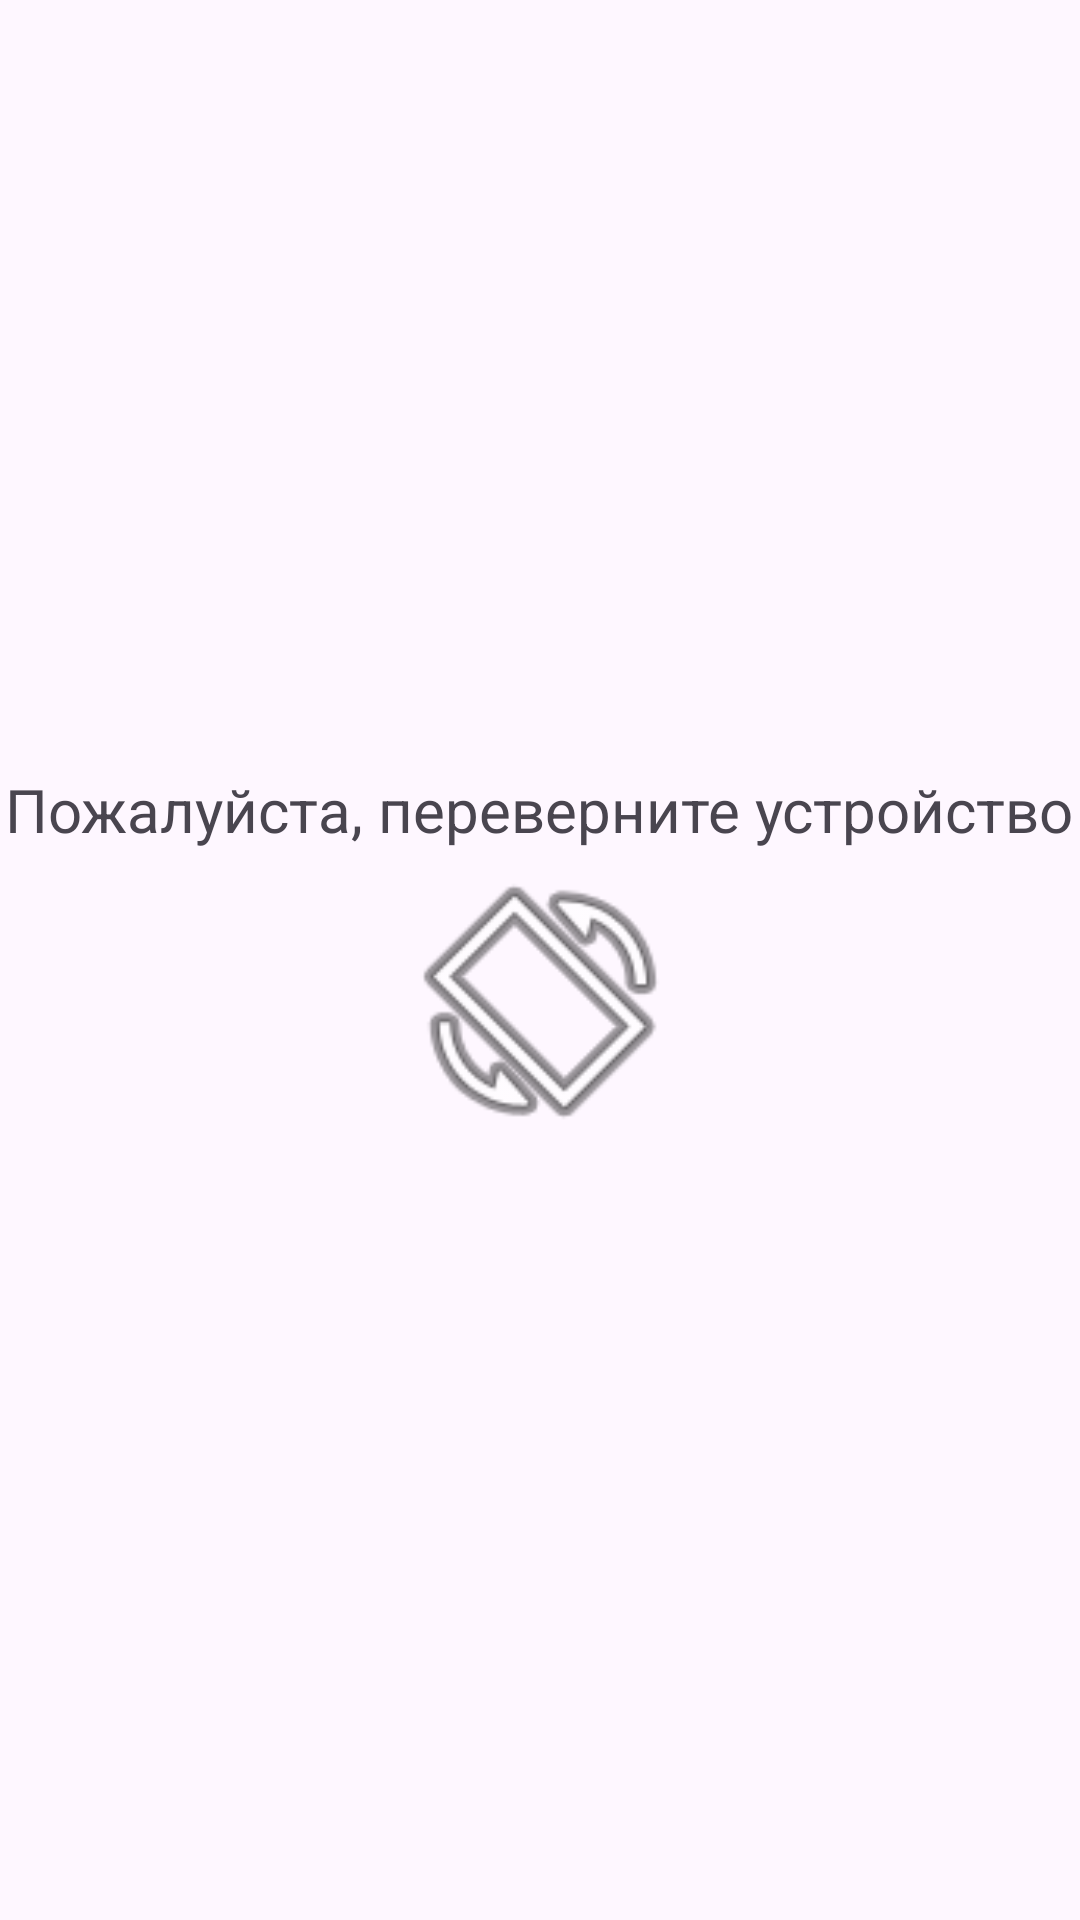

Icons on this 1080x1920 Android screen, each with its box as (x1=x1, y1=y1, x2=x2, y2=y2):
always landscape portrait: (x1=423, y1=886, x2=657, y2=1117)
